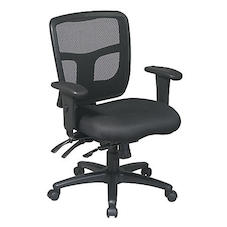chair: (29, 5, 197, 222)
